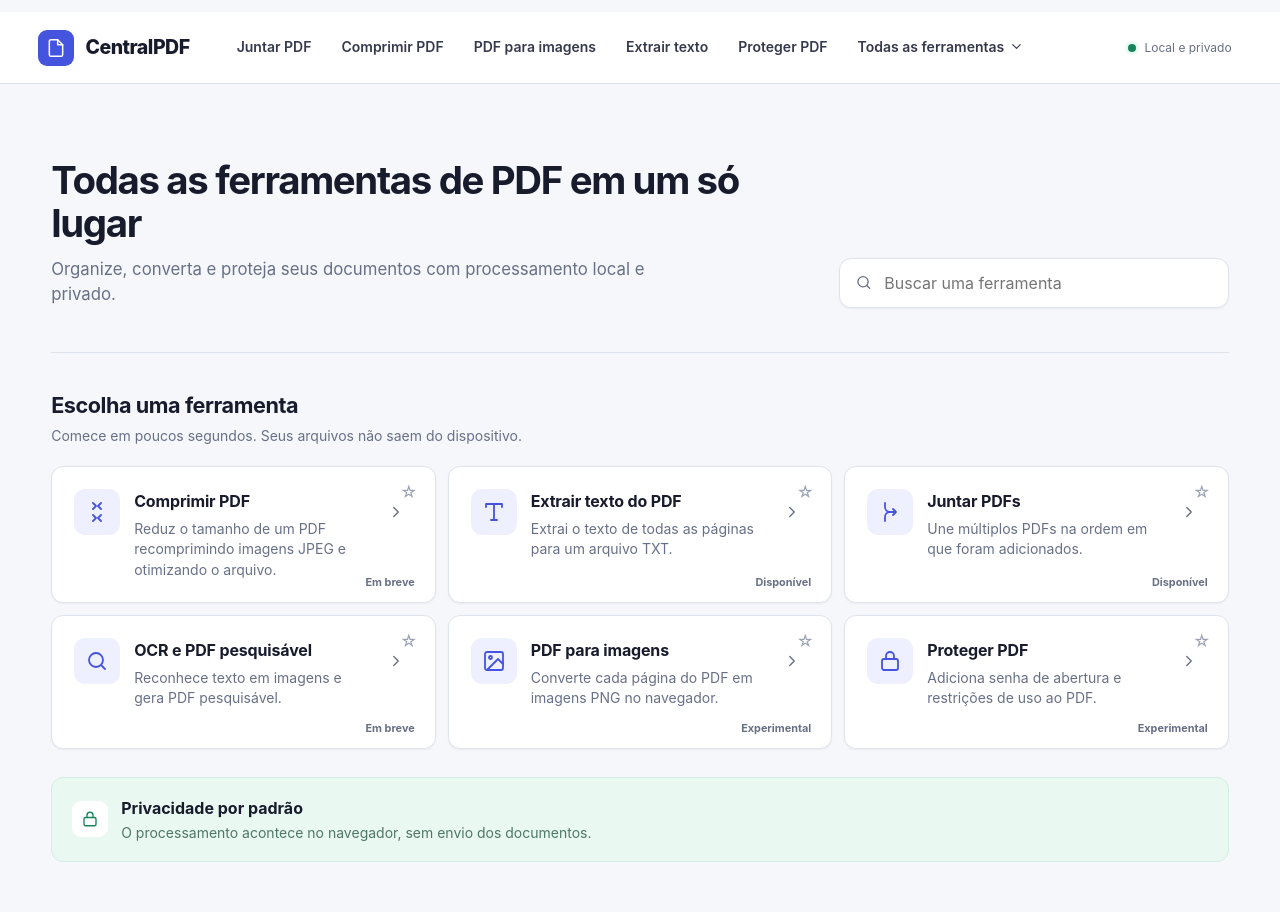
Test: App (shell 2.0) › ferramenta planejada não abre o workspace
Click the button "OCR e PDF pesquisável": (243, 682) [52,616,435,748]
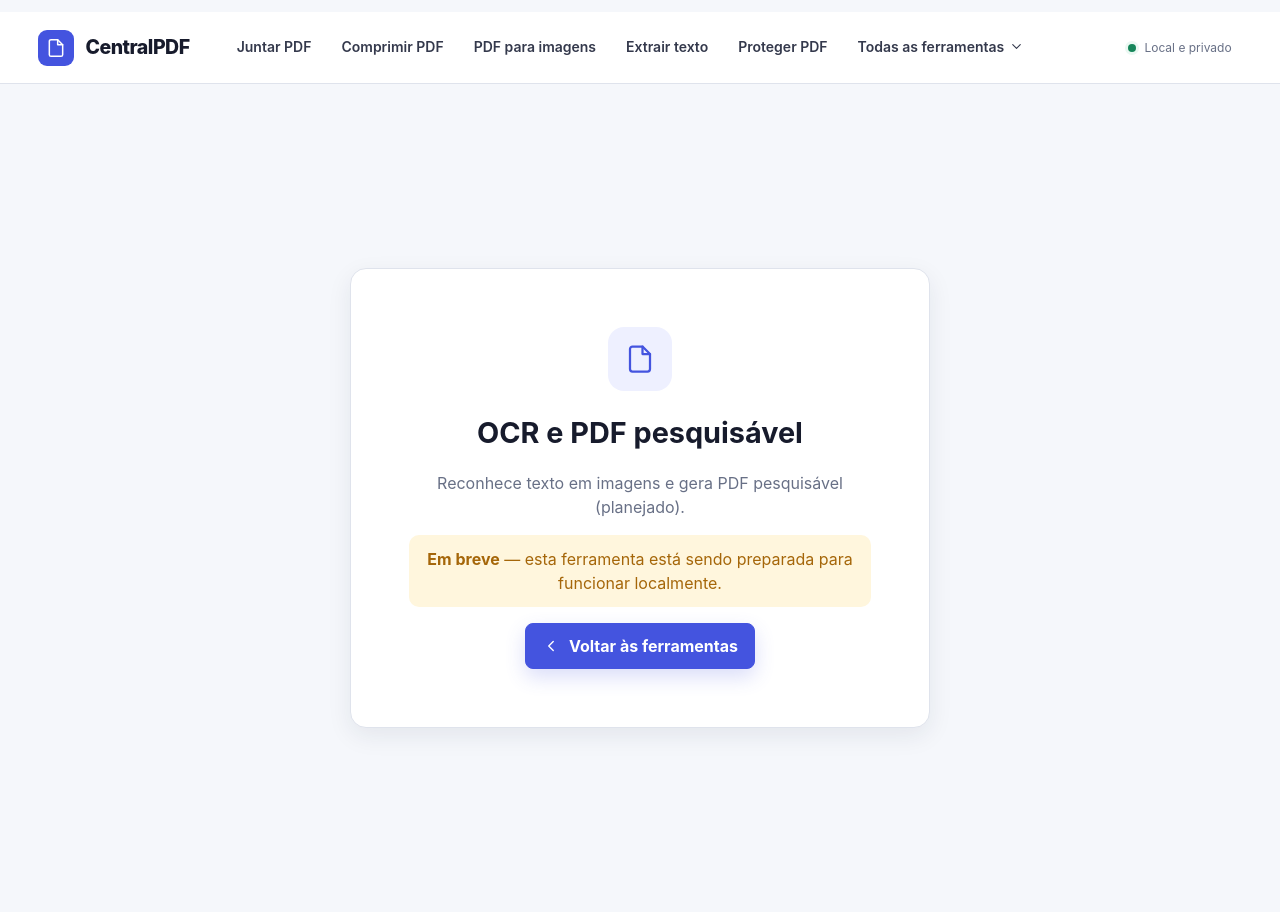
Result: the text "Em breve" is shown at [427,549,500,569]
